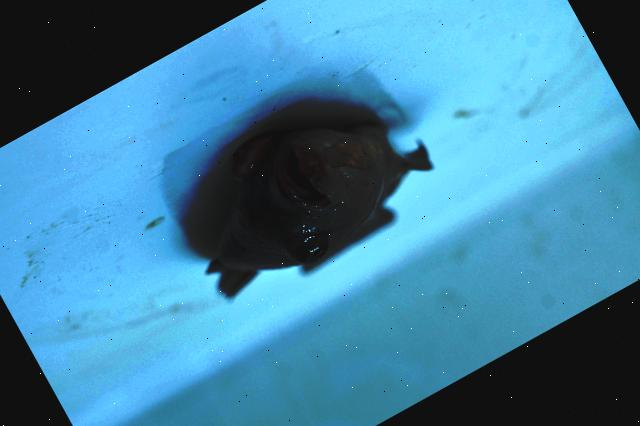Columnaris Disease: (209, 124, 429, 294)
